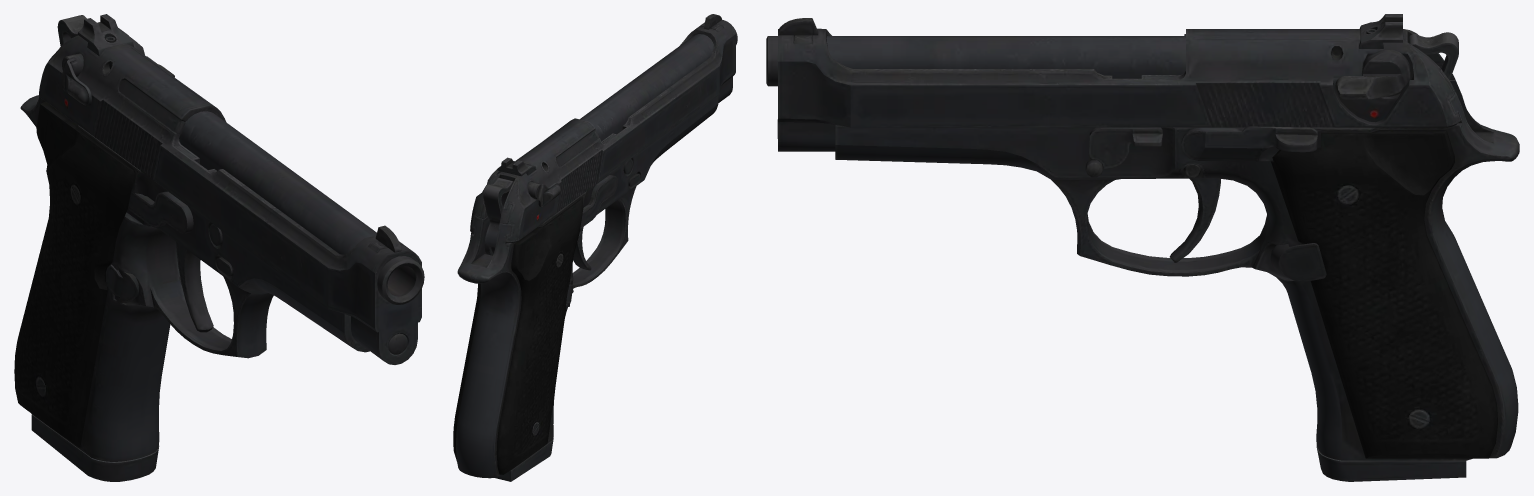
The model's file is w_pistol.glb.
3 renders of one model, left to right at view 1: azimuth 30°, elevation 25°; view 2: azimuth 150°, elevation 25°; view 3: azimuth 270°, elevation 25°, orthographic. The views are drawn at different scales.
Parts seen in each view (by area): view 1: base, slide, mag, trigger, hammer; view 2: base, slide, hammer, mag, trigger; view 3: base, slide, mag, trigger, hammer.
Boxes of the visible parts, x1,y1,x2,y2 form: base: (14,95,424,461); slide: (39,14,421,364); mag: (31,414,159,481); trigger: (176,242,213,332); hammer: (57,15,86,45); base: (453,19,737,478); slide: (470,14,735,242); hammer: (483,178,513,255); mag: (494,437,553,481); trigger: (573,227,591,270); base: (766,36,1519,460); slide: (778,14,1460,151); mag: (1316,444,1466,481); trigger: (1169,178,1220,262); hammer: (1408,32,1458,80).
Size of the model in its own units: 2.56 by 10.82 by 16.55.
1 material, 1 textured.
